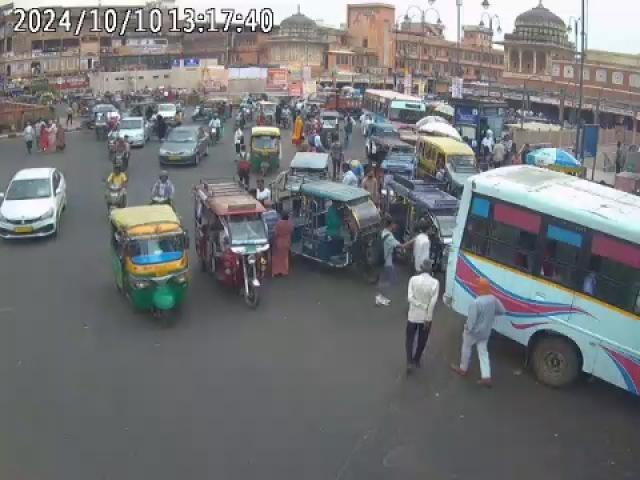auto: (192, 178, 274, 308), (110, 202, 193, 328), (296, 177, 386, 275), (402, 174, 462, 250), (416, 134, 478, 195), (247, 125, 283, 177)
bus: (443, 167, 640, 396), (364, 89, 428, 132)
car: (4, 170, 73, 246), (156, 126, 208, 167)
license_plate: (12, 226, 34, 232)
person: (453, 278, 498, 391), (404, 257, 436, 376), (24, 126, 38, 154)
scooty-rider: (105, 166, 129, 208), (151, 172, 175, 206)
